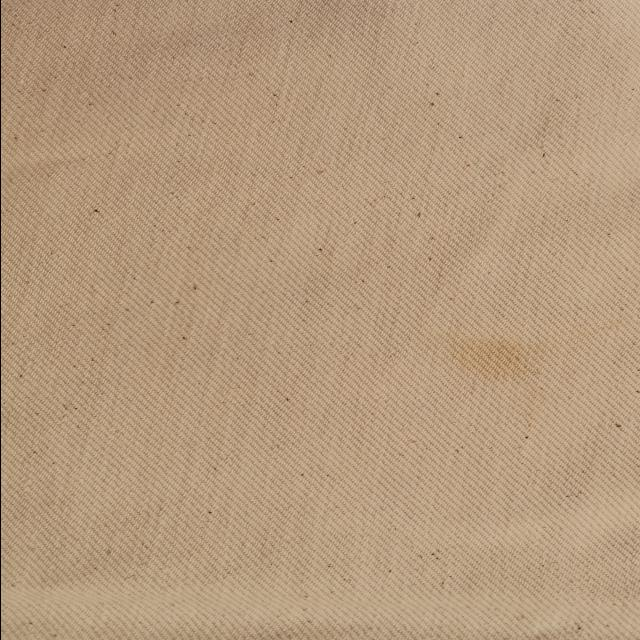taaaches: (444, 330, 584, 394)
